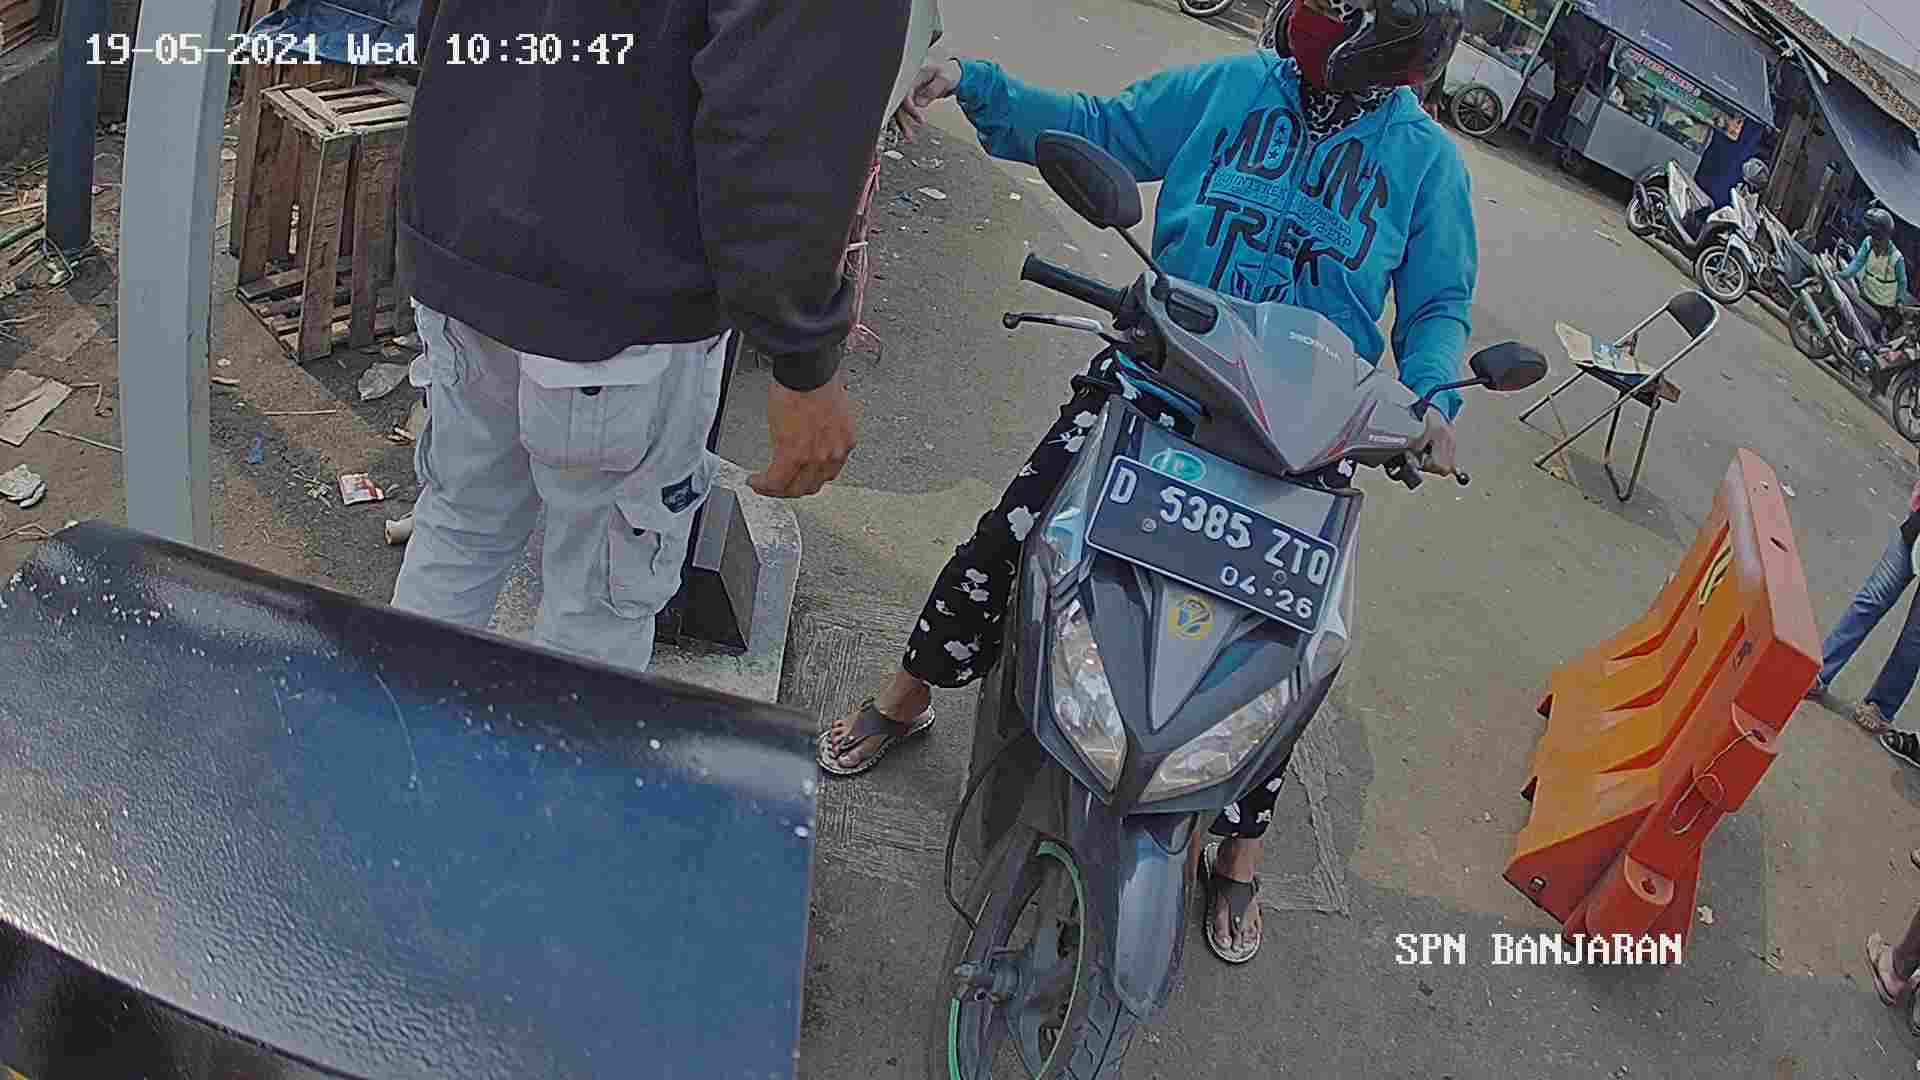motor: (935, 239, 1441, 1077)
